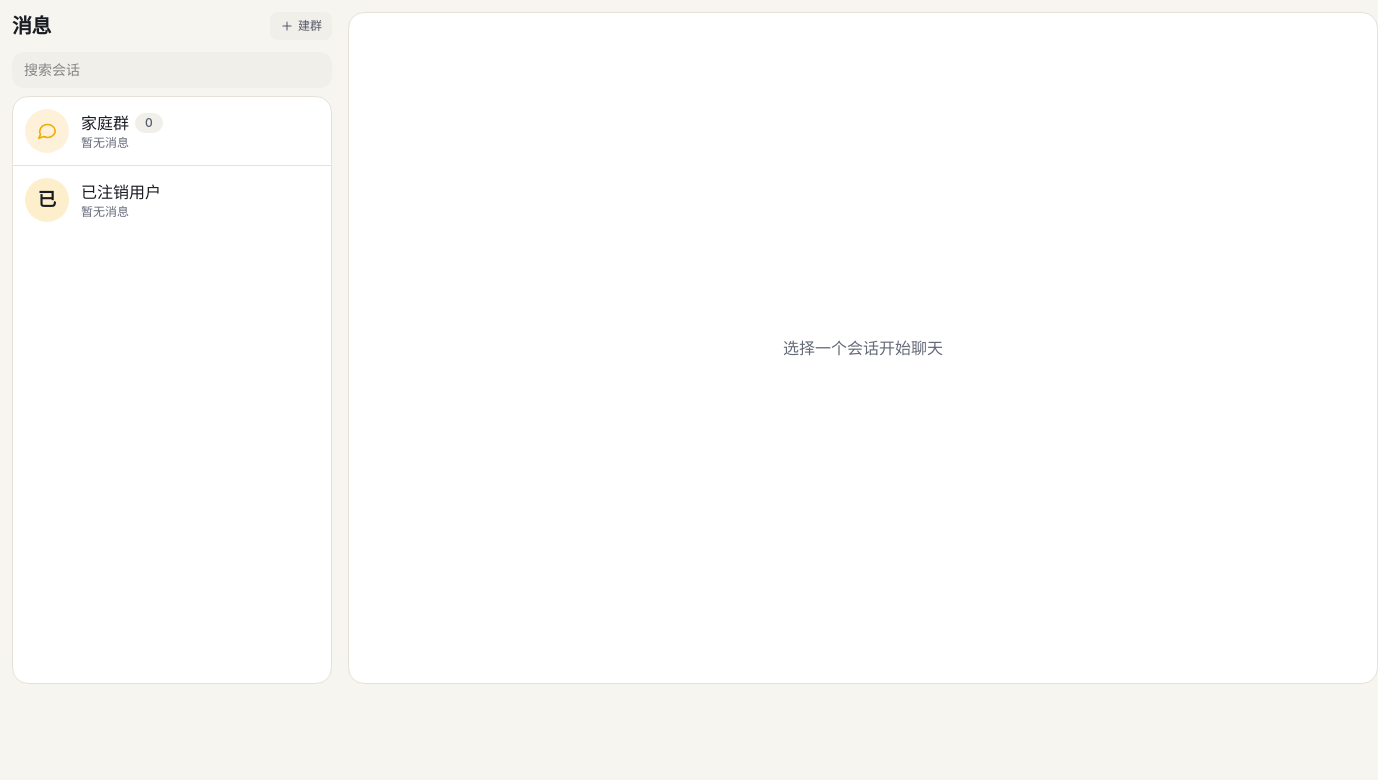
ChatPage 会话列表按名字搜索过滤 › 全局命中：对端已注销（服务端空名）→ 命中行本地化为"已注销用户"、aria-label 完整（不留空名/残缺短语）
The image size is (1378, 780).
Expected: the text "已注销用户" is shown, [81,180,161,204]
Type "地址" into the search field labelled "搜索会话" at (172, 70), box [12,52,332,88]
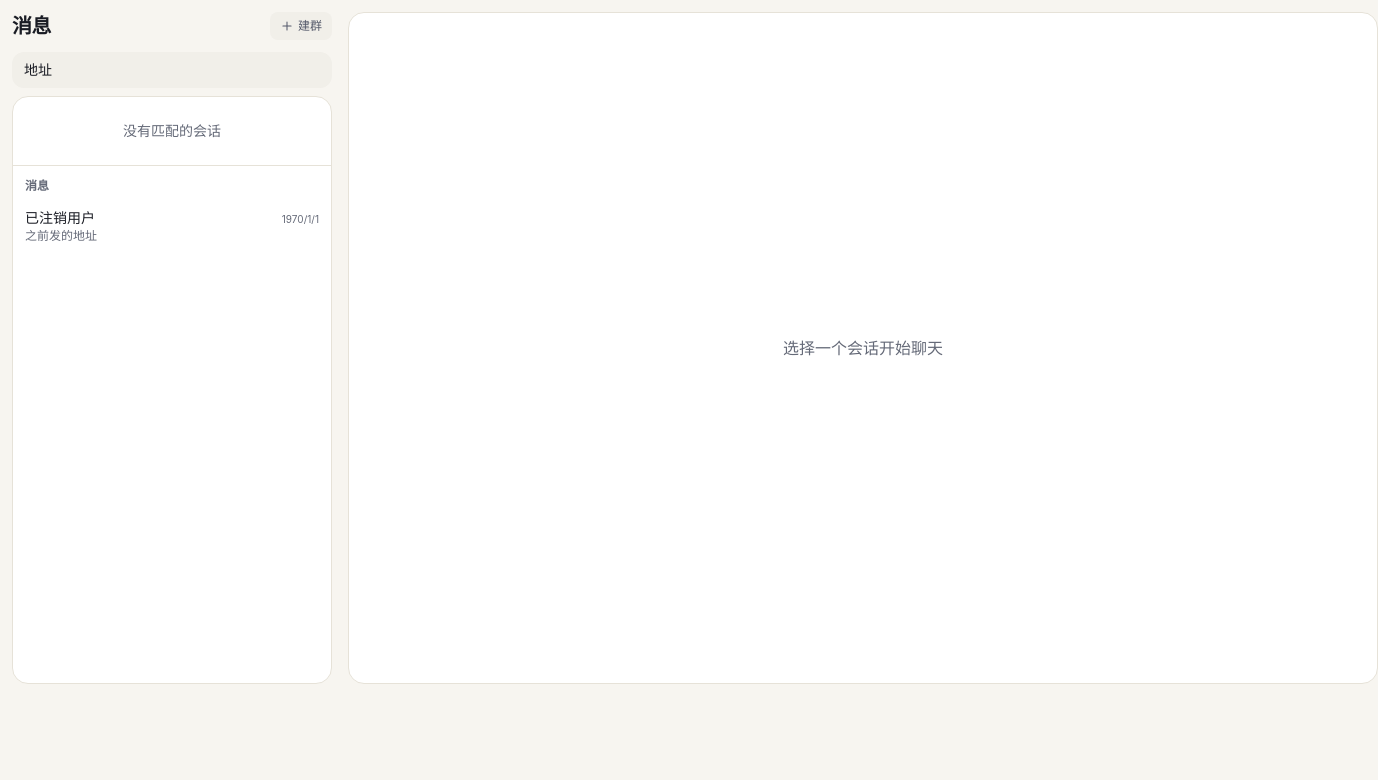
Expected: the text "之前发的地址" is shown, [25,228,97,243]
Expected: the button with aria-label "打开与 已注销用户 的会话" is shown, [13,198,331,254]
